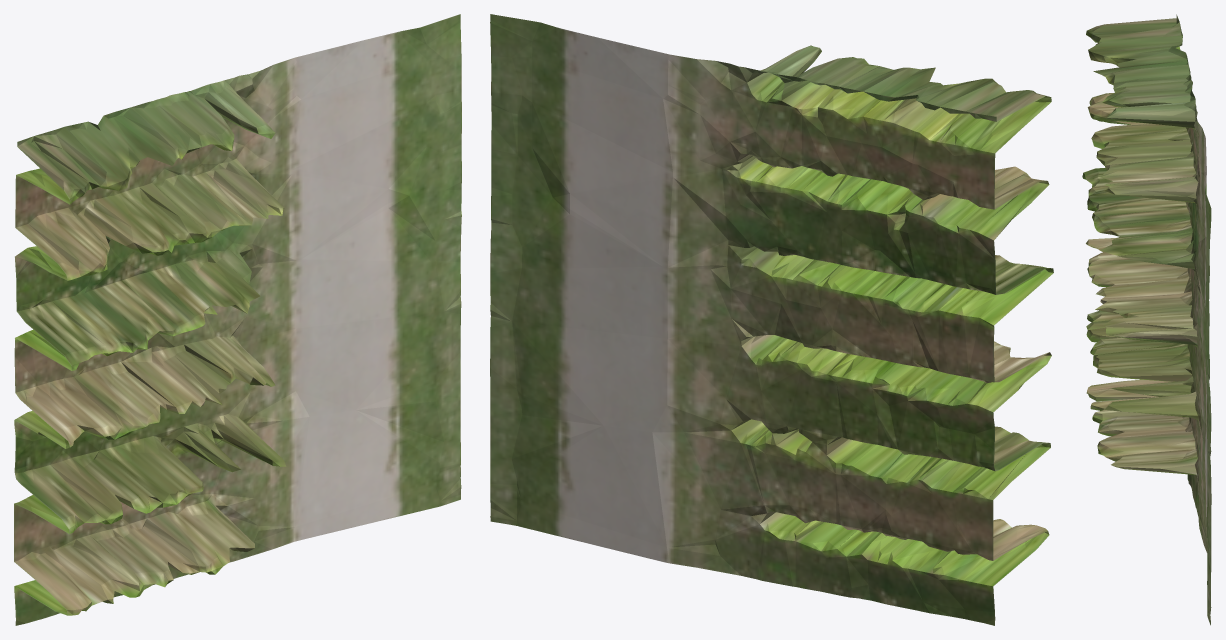
The model's file is map_230_80.obj.
3 views of the same model, side by side, from view 1: azimuth 30°, elevation 25°; view 2: azimuth 150°, elevation 25°; view 3: azimuth 270°, elevation 25° (orthographic). The views are drawn at different scales.
Visible parts, largest first — view 1: grp1; view 2: grp1; view 3: grp1.
Boxes of the visible parts, x1,y1,x2,y2 form: grp1: (14, 14, 461, 625); grp1: (490, 14, 1053, 625); grp1: (1082, 14, 1211, 625).
Bounding box in the file's own units: 10 × 10 × 2.81.
1 material, 1 textured.
